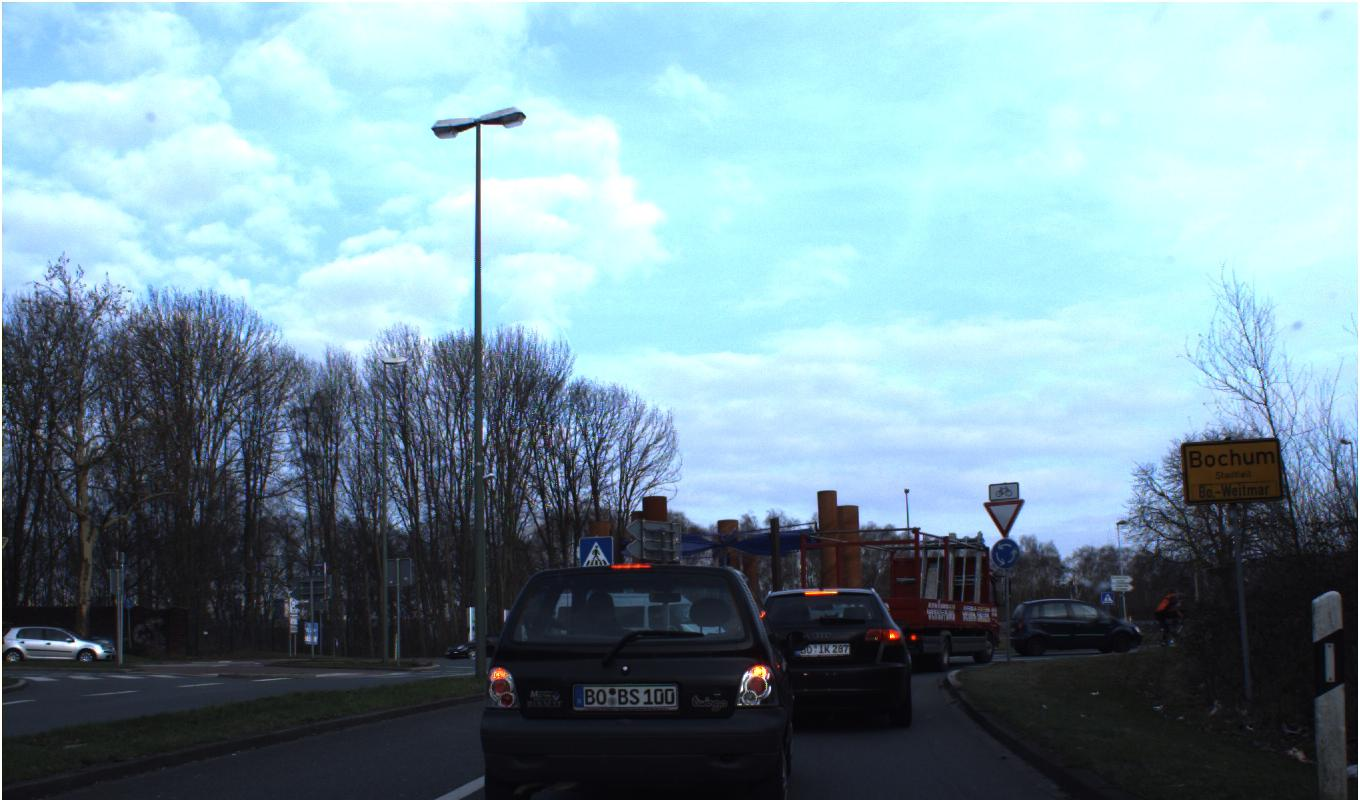mandatory: (990, 539, 1020, 569)
sign: (982, 498, 1025, 539)
